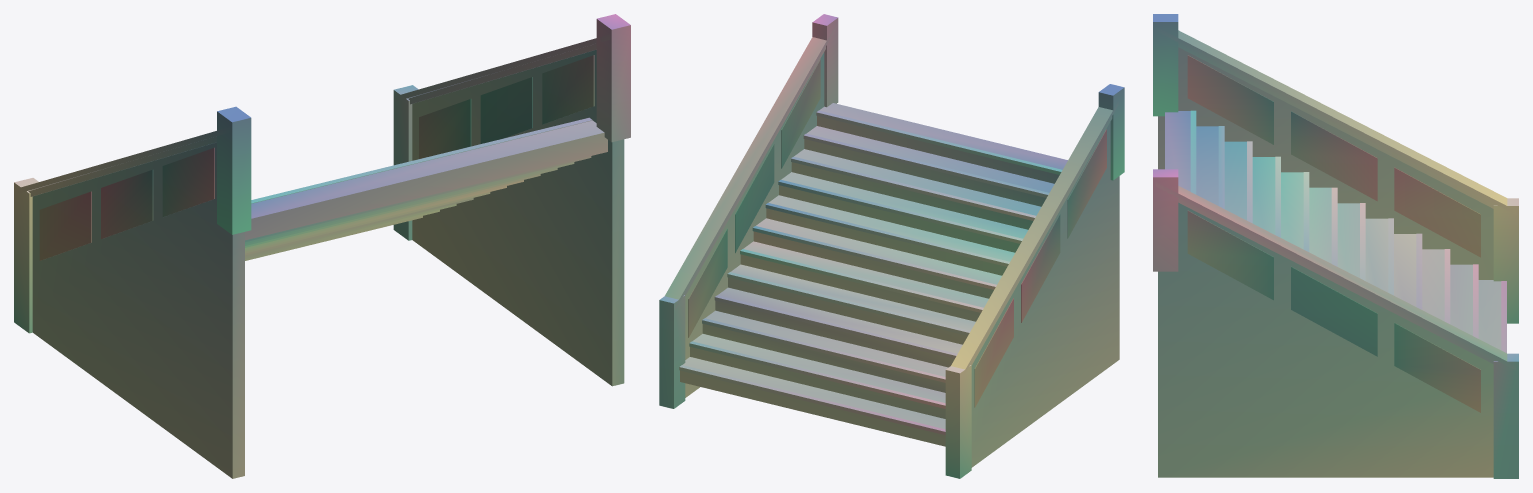
Rendered from stair_grand_4m.glb.
3 renders of one model, left to right at view 1: azimuth 30°, elevation 25°; view 2: azimuth 150°, elevation 25°; view 3: azimuth 270°, elevation 25°, orthographic. The views are drawn at different scales.
Visible parts, largest first — view 1: stair, stair_trim, stair_panels; view 2: stair, stair_trim, stair_panels; view 3: stair, stair_trim, stair_panels.
Part boxes in pixels (left/top/right/bottom): stair: left=32, top=50, right=624, bottom=478; stair_trim: left=14, top=14, right=630, bottom=333; stair_panels: left=39, top=55, right=594, bottom=260; stair: left=680, top=52, right=1119, bottom=467; stair_trim: left=659, top=14, right=1124, bottom=478; stair_panels: left=688, top=59, right=1106, bottom=407; stair: left=1158, top=47, right=1501, bottom=477; stair_trim: left=1153, top=14, right=1518, bottom=478; stair_panels: left=1187, top=55, right=1480, bottom=412.
Bounding box in the file's own units: 4.56 × 3.93 × 4.32.
